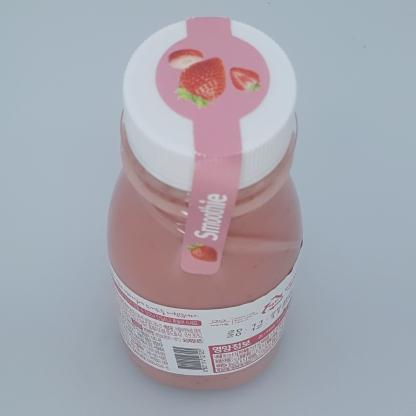--------------------190ML: (107, 17, 303, 390)
